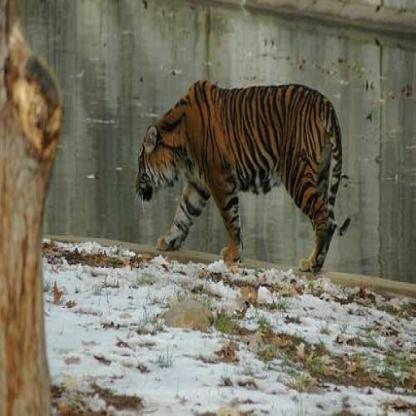Tiger: (129, 61, 359, 290)
